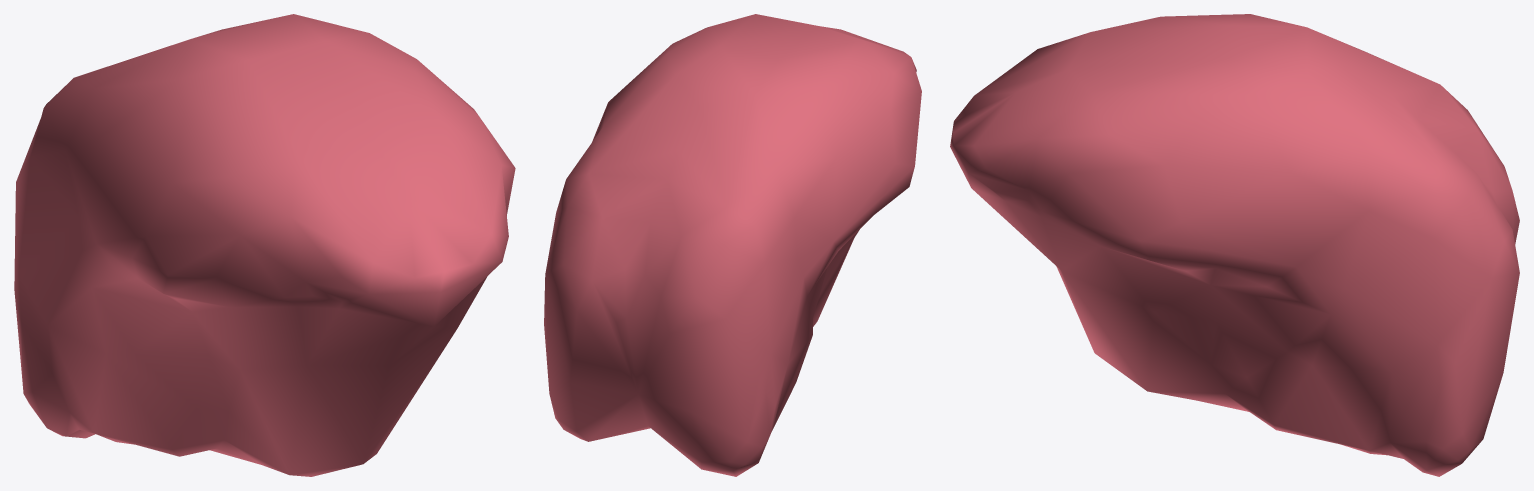
File: visceras-tongue.glb
The picture shows the model from 3 angles, left to right: view 1: azimuth 30°, elevation 25°; view 2: azimuth 150°, elevation 25°; view 3: azimuth 270°, elevation 25°; orthographic projection. The views are drawn at different scales.
Visible parts, largest first — view 1: Tongue; view 2: Tongue; view 3: Tongue.
Boxes of the visible parts, x1,y1,x2,y2 form: Tongue: (14,14,515,476); Tongue: (544,14,921,476); Tongue: (950,14,1519,476).
Size of the model in its own units: 0.0337 by 0.0426 by 0.0563.
